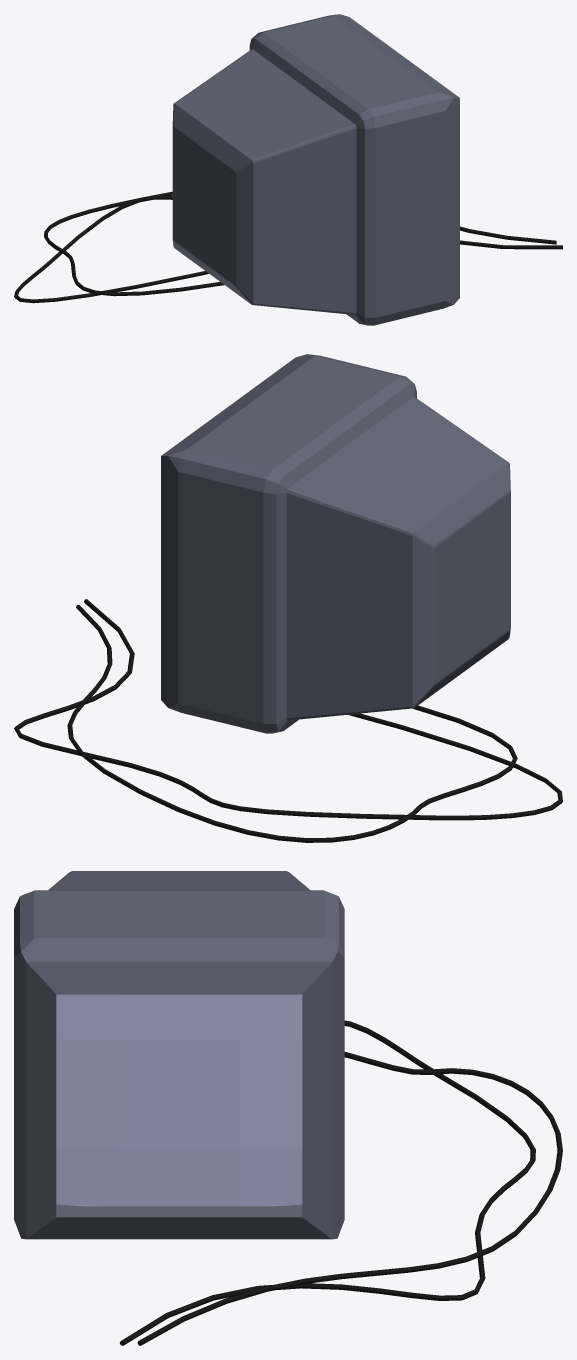
Rendered from DiagnoseTool_TV.fbx.
The picture shows the model from 3 angles, top to bottom: view 1: azimuth 30°, elevation 25°; view 2: azimuth 150°, elevation 25°; view 3: azimuth 270°, elevation 25°; orthographic projection. The views are drawn at different scales.
Visible parts, largest first — view 1: TVHull, Cable_B, Cable_A; view 2: TVHull, Cable_B, Cable_A; view 3: TVHull, TVScreen, Cable_A, Cable_B.
Part boxes in pixels (<box>): TVHull: <box>172,14,459,325</box>; Cable_B: <box>14,195,562,303</box>; Cable_A: <box>44,191,556,296</box>; TVHull: <box>161,354,510,733</box>; Cable_B: <box>14,599,562,820</box>; Cable_A: <box>67,604,517,842</box>; TVHull: <box>14,871,344,1239</box>; TVScreen: <box>56,994,302,1206</box>; Cable_A: <box>137,1052,562,1345</box>; Cable_B: <box>120,1020,535,1345</box>.
Bounding box in the file's own units: 136 × 61.26 × 99.59.
